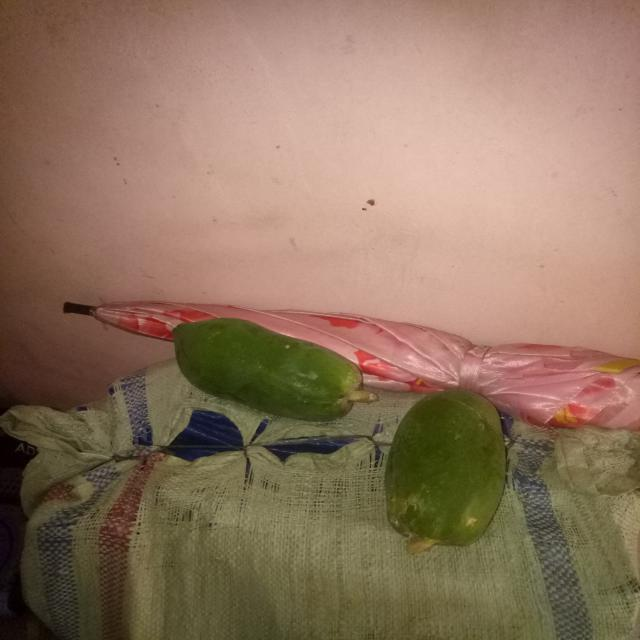Pepaya unrippen: (156, 313, 374, 427), (386, 382, 514, 546)
